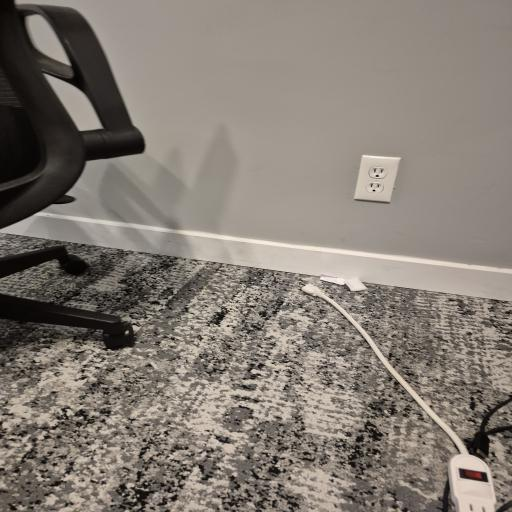outlet: (355, 154, 397, 205)
